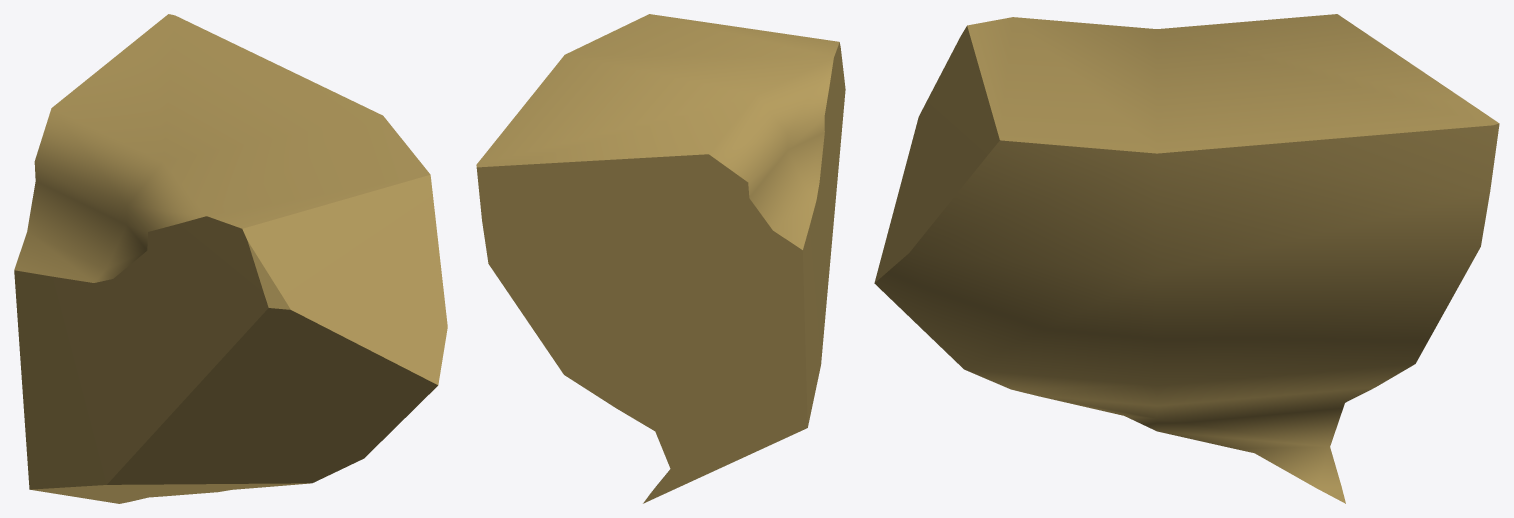
Rendered from broken_pot_cell_022_cell.fbx.
The picture shows the model from 3 angles, left to right: view 1: azimuth 30°, elevation 25°; view 2: azimuth 150°, elevation 25°; view 3: azimuth 270°, elevation 25°; orthographic projection. The views are drawn at different scales.
Parts seen in each view (by area): view 1: broken_pot_cell.022_cell; view 2: broken_pot_cell.022_cell; view 3: broken_pot_cell.022_cell.
Boxes of the visible parts, x1,y1,x2,y2 form: broken_pot_cell.022_cell: (14, 14, 447, 503); broken_pot_cell.022_cell: (476, 14, 845, 503); broken_pot_cell.022_cell: (874, 14, 1499, 503).
Size of the model in its own units: 0.252 by 0.3121 by 0.3913.
